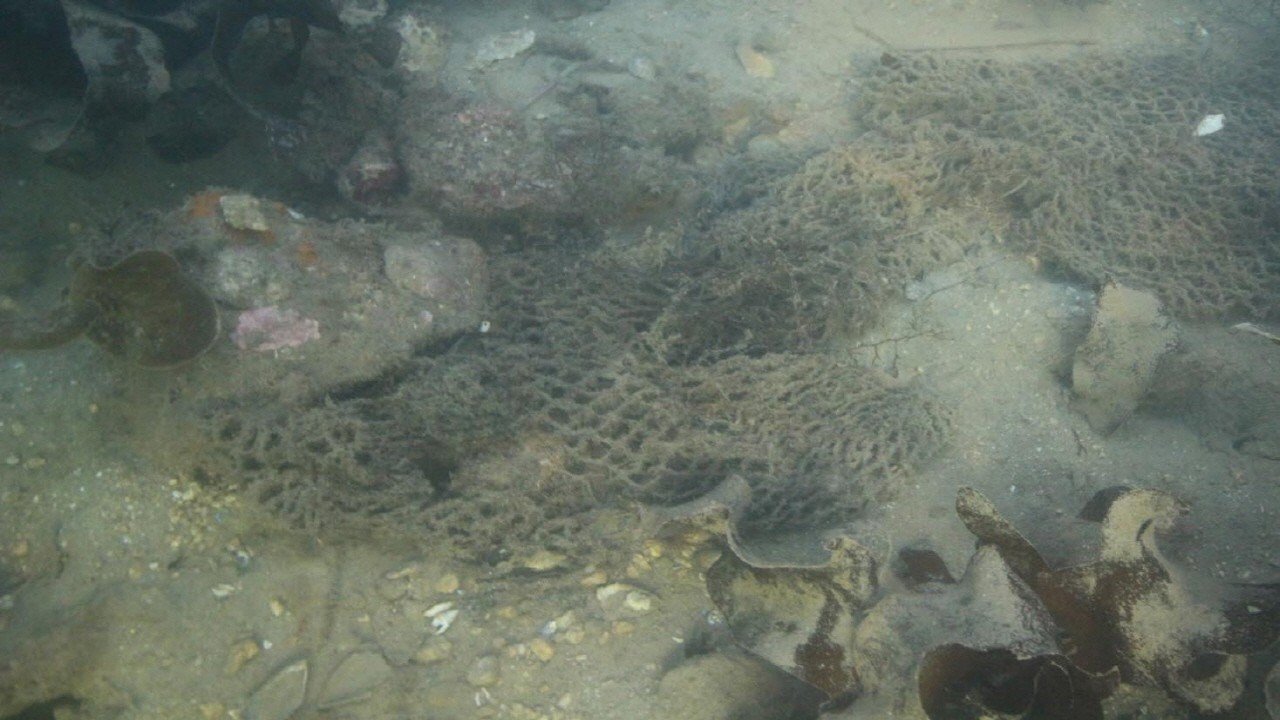fish net: (211, 50, 1279, 548)
